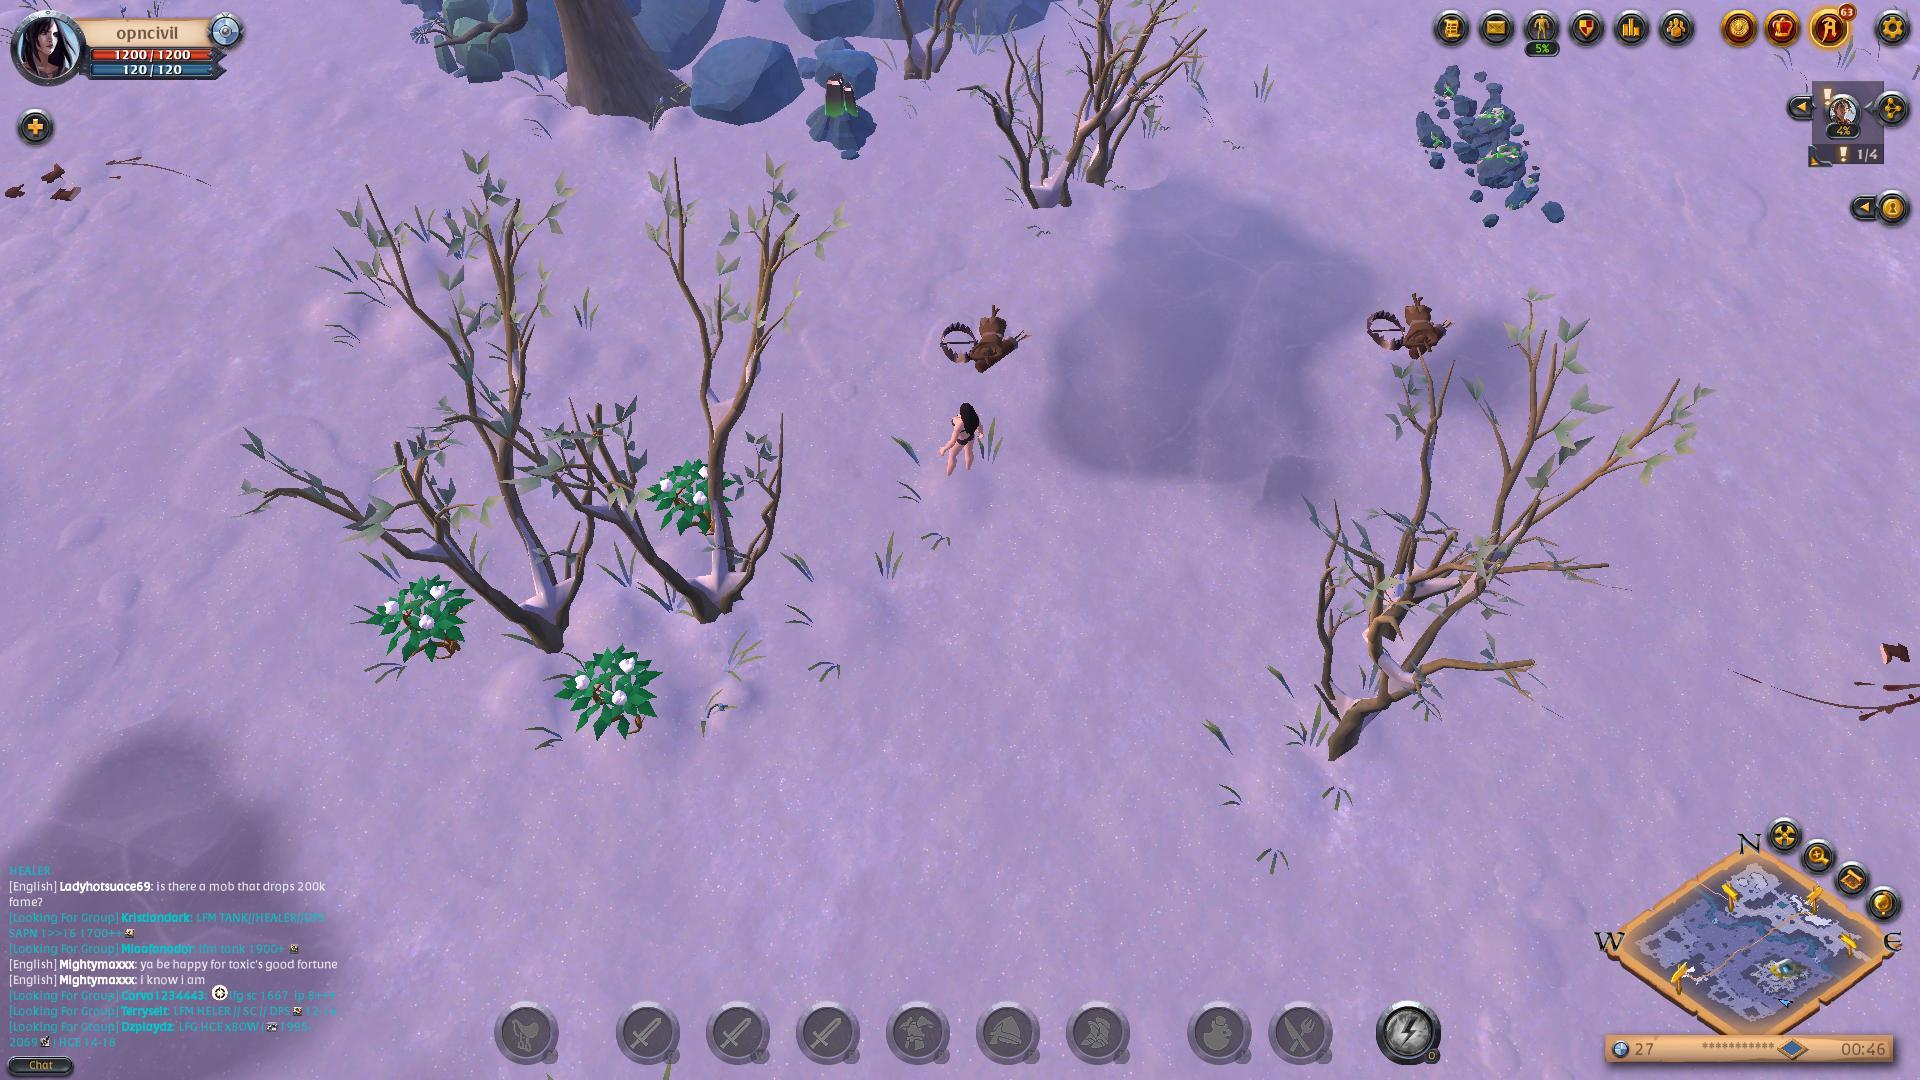flax: (364, 567, 469, 662), (560, 641, 655, 735), (650, 460, 717, 531)
tin_ore: (804, 67, 878, 157)
